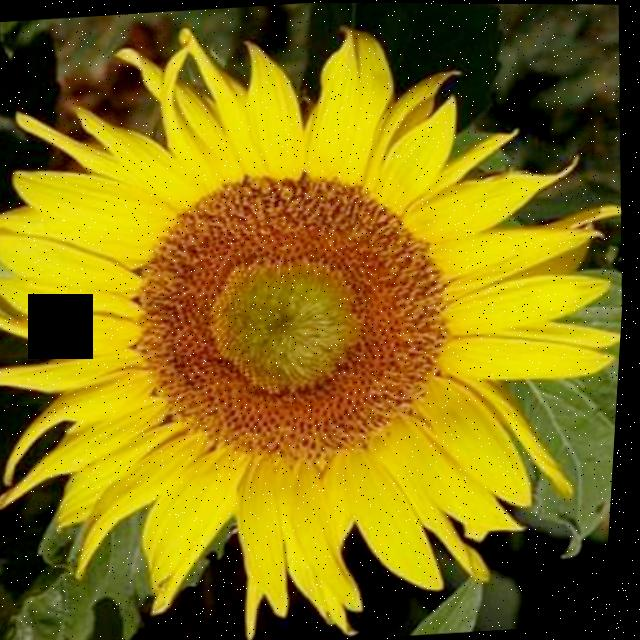sunflower: (0, 25, 624, 623)
